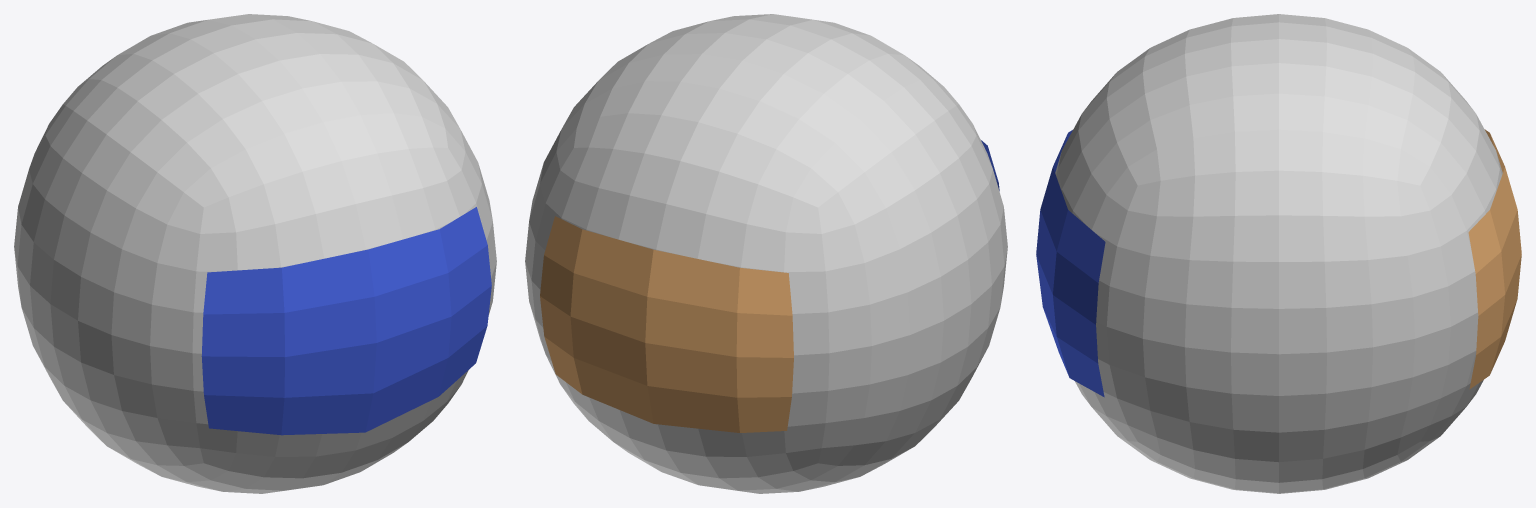
File: 0129_ShrinkWrapReady_ActiveCol.fbx
The picture shows the model from 3 angles, left to right: view 1: azimuth 30°, elevation 25°; view 2: azimuth 150°, elevation 25°; view 3: azimuth 270°, elevation 25°; orthographic projection.
Visible parts, largest first — view 1: Cube, FirstPlane; view 2: Cube, SecondPlane; view 3: Cube, FirstPlane, SecondPlane.
Boxes of the visible parts, x1,y1,x2,y2 form: Cube: (14,14,496,493); FirstPlane: (201,207,491,435); Cube: (525,14,1007,493); SecondPlane: (540,216,793,432); Cube: (1055,14,1502,493); FirstPlane: (1036,130,1105,397); SecondPlane: (1468,129,1521,389).
Size of the model in its own units: 168 by 168 by 172.
